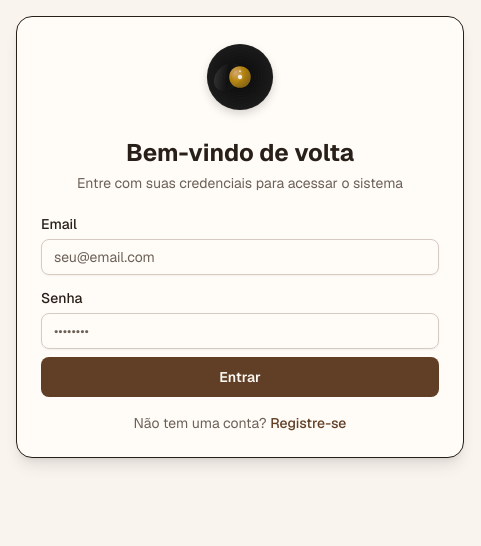
Test: LoginPage › exibe erro com credenciais inválidas › should show API error message
The width and height of the screenshot is (481, 546).
In the field labelled "Email": (240, 257) [41,239,439,275], type "test@test.com"
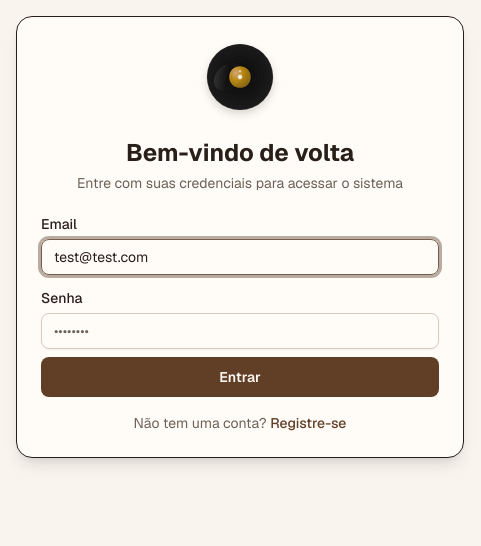
In the password field labelled "Senha": (240, 331) [41,313,439,349], type "password123"
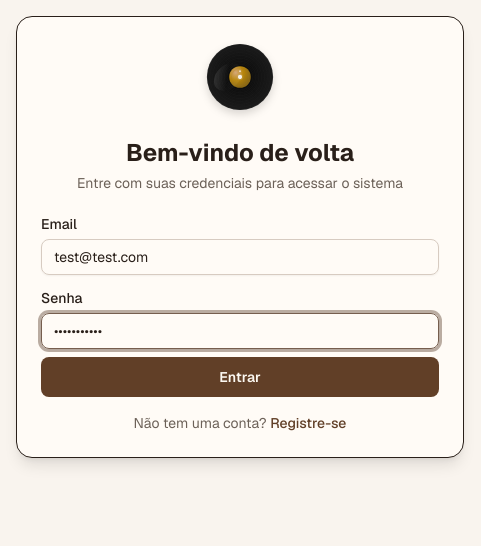
Click the button "Entrar": (240, 377) [41,357,439,397]
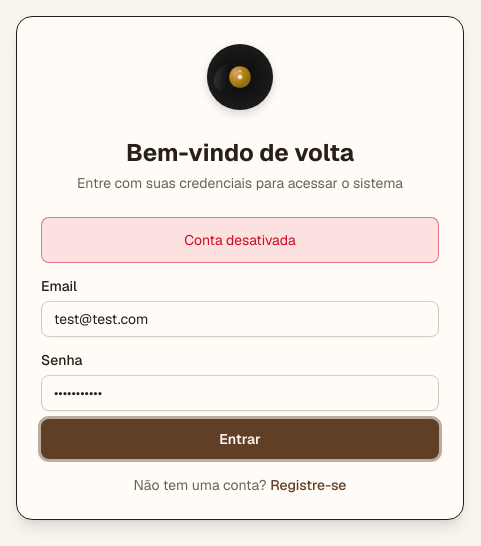
Check: the text "Conta desativada" is shown, box [41,217,439,263]
